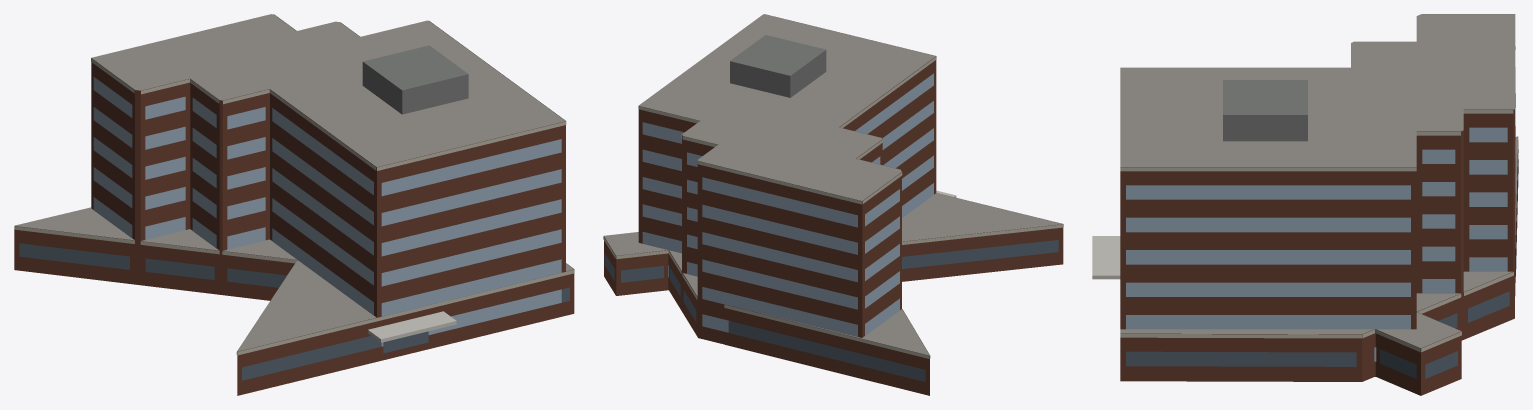
The model's file is atkins-building.glb.
3 views of the same model, side by side, from view 1: azimuth 30°, elevation 25°; view 2: azimuth 150°, elevation 25°; view 3: azimuth 270°, elevation 25° (orthographic). The views are drawn at different scales.
Parts seen in each view (by area): view 1: atkins_building; view 2: atkins_building; view 3: atkins_building.
Boxes of the visible parts, x1=… form: atkins_building: x1=14, y1=14, x2=574, y2=395; atkins_building: x1=603, y1=14, x2=1063, y2=395; atkins_building: x1=1092, y1=14, x2=1518, y2=395.
Size of the model in its own units: 53.4 by 27.65 by 45.36.
